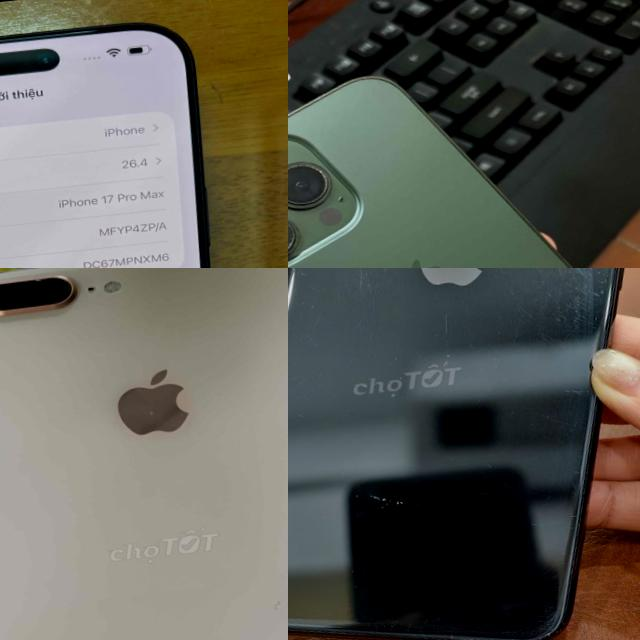gen_12_13: (288, 41, 640, 268)
gen_17: (0, 11, 255, 268)
gen_7_8: (0, 268, 288, 640)
gen_x_xs: (288, 268, 623, 640)
